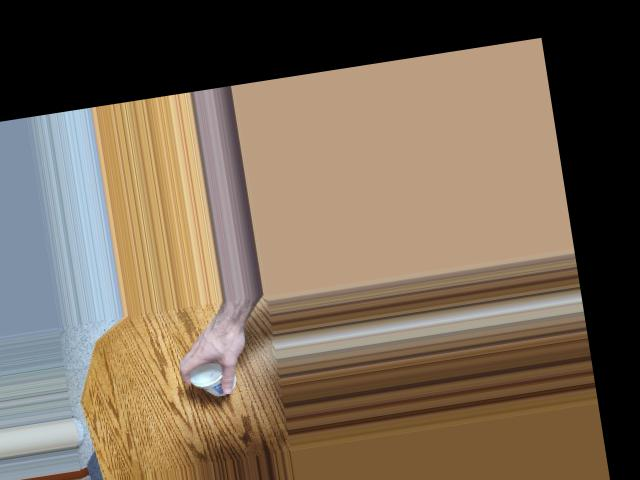cotage: (190, 352, 242, 399)
